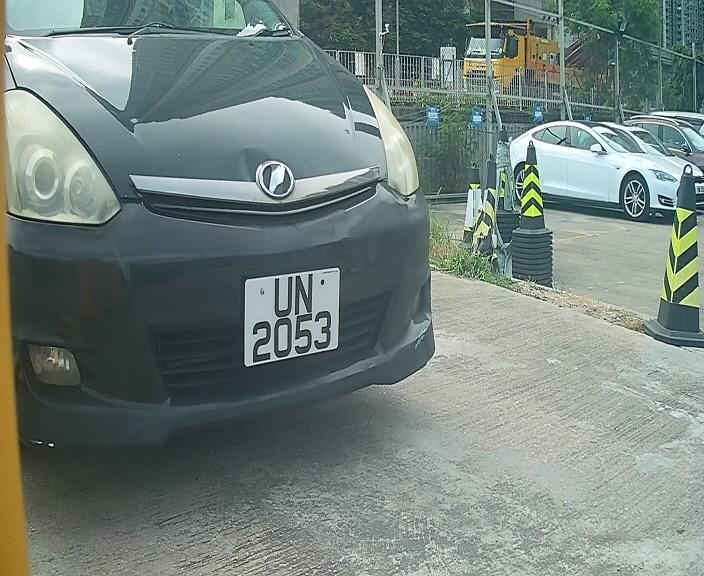License Plate: (236, 260, 346, 376)
